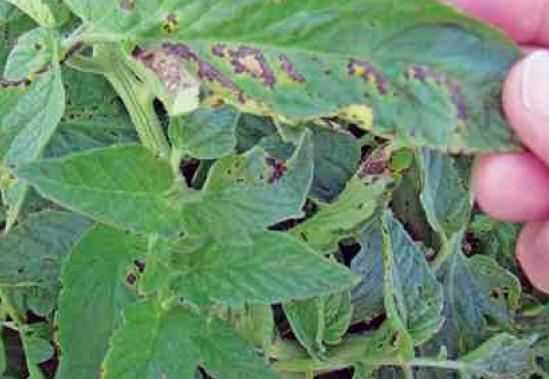Tomato Early blight leaf: (41, 0, 513, 150)
Tomato leaf: (0, 147, 189, 237), (193, 241, 357, 303), (183, 317, 286, 379)
